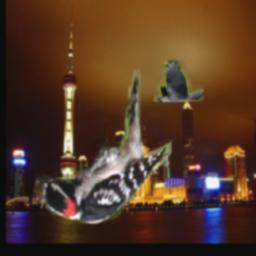Crow: (154, 60, 205, 102)
Woodpecker: (36, 69, 172, 225)
